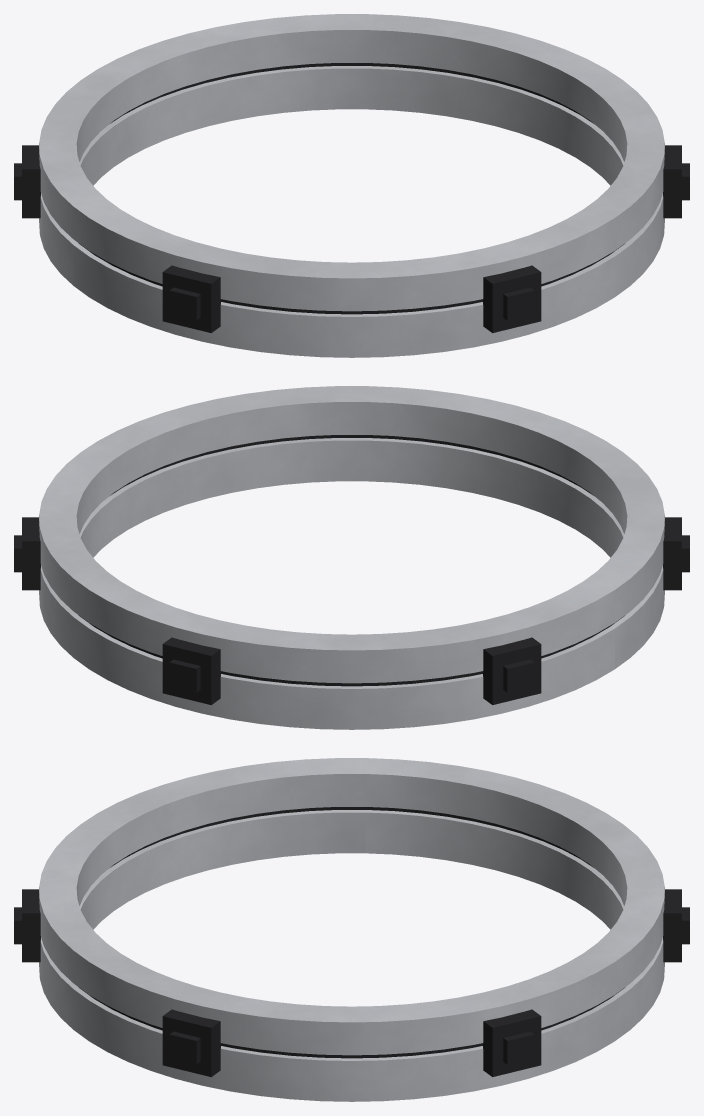
The model's file is stage00_decoupler_m.glb.
3 renders of one model, top to bottom at view 1: azimuth 30°, elevation 25°; view 2: azimuth 150°, elevation 25°; view 3: azimuth 270°, elevation 25°, orthographic.
Parts seen in each view (by area): view 1: upper_ring, lower_ring, latches_pushers, sep_joint; view 2: upper_ring, lower_ring, latches_pushers, sep_joint; view 3: upper_ring, lower_ring, latches_pushers, sep_joint.
Boxes of the visible parts, <box> form: upper_ring: <box>39,14,664,311</box>; lower_ring: <box>39,66,664,357</box>; latches_pushers: <box>14,145,689,333</box>; sep_joint: <box>78,63,625,314</box>; upper_ring: <box>39,386,664,683</box>; lower_ring: <box>39,438,664,729</box>; latches_pushers: <box>14,517,689,705</box>; sep_joint: <box>78,435,625,686</box>; upper_ring: <box>39,758,664,1055</box>; lower_ring: <box>39,810,664,1101</box>; latches_pushers: <box>14,889,689,1077</box>; sep_joint: <box>78,807,625,1058</box>.
Bounding box in the file's own units: 2.5 × 0.35 × 2.7.
2 materials, 1 textured.
